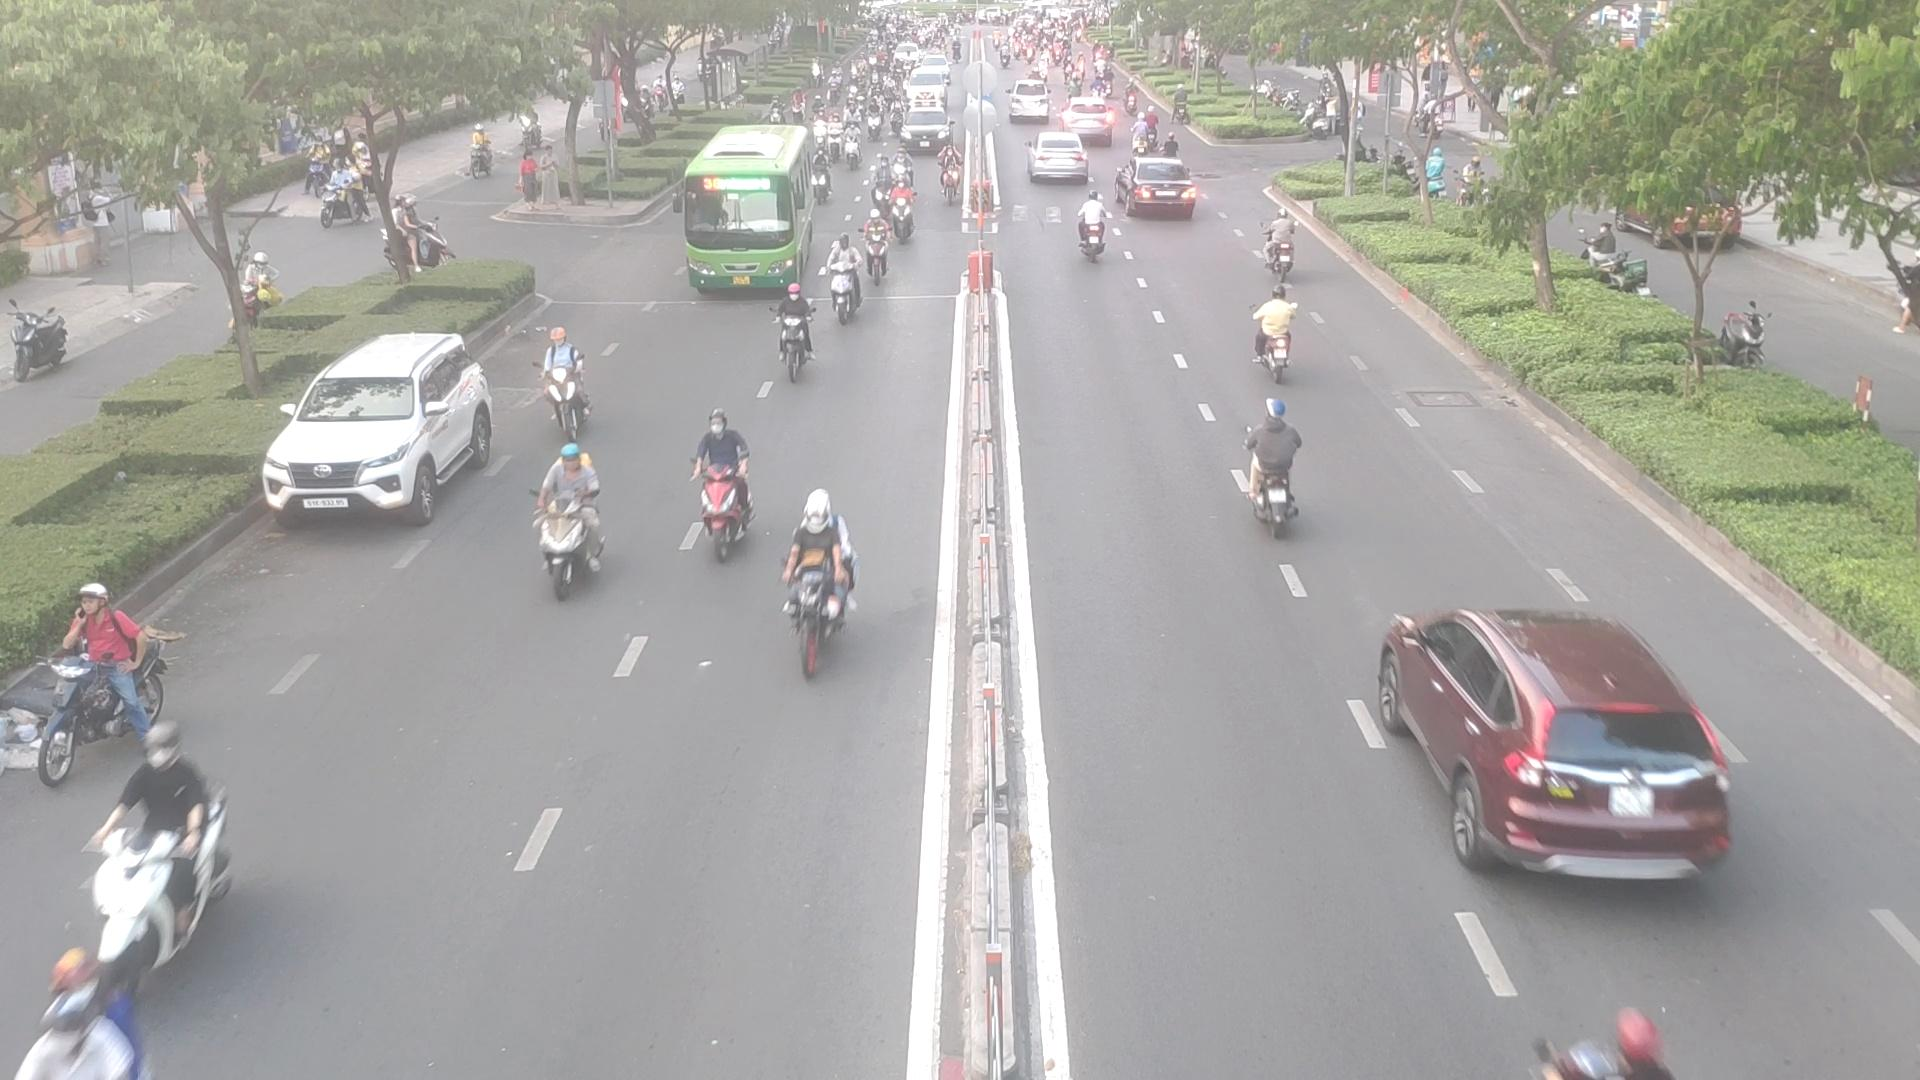bus: (671, 129, 803, 295)
car: (1387, 607, 1750, 886), (266, 334, 510, 527), (1120, 160, 1203, 223), (1027, 135, 1092, 185)
motorbike: (73, 744, 229, 957), (3, 589, 170, 771), (781, 520, 862, 679), (526, 444, 609, 591), (1534, 1007, 1692, 1080), (682, 415, 757, 560), (1240, 407, 1309, 531), (537, 323, 597, 447), (384, 195, 458, 273), (773, 287, 829, 384), (1253, 295, 1303, 380), (1073, 191, 1118, 262), (1257, 214, 1304, 280), (857, 219, 890, 277), (884, 196, 914, 245)
